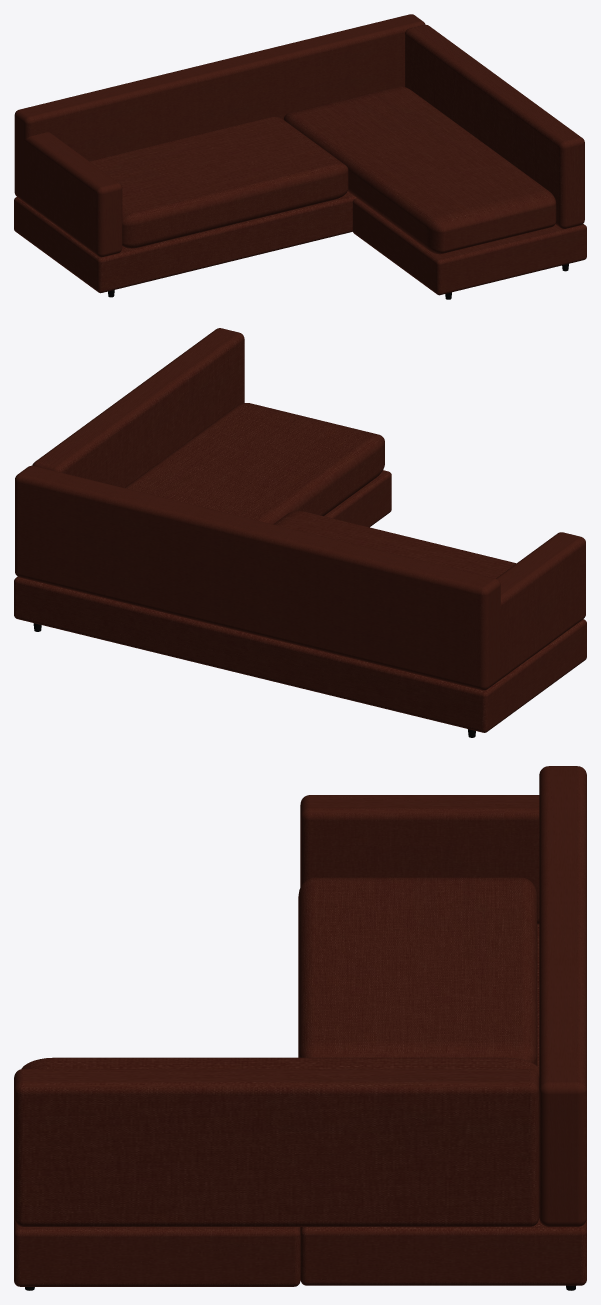
The model's file is state-default.glb.
3 views of the same model, one above another, from view 1: azimuth 30°, elevation 25°; view 2: azimuth 150°, elevation 25°; view 3: azimuth 270°, elevation 25° (orthographic). The views are drawn at different scales.
Parts seen in each view (by area): view 1: assetPrim:59a525468c75d8-19c73105016:sofa-back-main, assetPrim:59a525468c75d8-19c73105016:sofa-cushion-4, assetPrim:59a525468c75d8-19c73105016:ead12c019651a8-19c72aab, assetPrim:59a525468c75d8-19c73105016:sofa-back-return, assetPrim:59a525468c75d8-19c73105016:sofa-base-main, assetPrim:59a525468c75d8-19c73105016:sofa-base-return, assetPrim:59a525468c75d8-19c73105016:sofa-arm-left; view 2: assetPrim:59a525468c75d8-19c73105016:sofa-back-main, assetPrim:59a525468c75d8-19c73105016:sofa-base-main, assetPrim:59a525468c75d8-19c73105016:sofa-cushion-4, assetPrim:59a525468c75d8-19c73105016:sofa-back-return, assetPrim:59a525468c75d8-19c73105016:sofa-arm-left, assetPrim:59a525468c75d8-19c73105016:ead12c019651a8-19c72aab, assetPrim:59a525468c75d8-19c73105016:sofa-base-return; view 3: assetPrim:59a525468c75d8-19c73105016:sofa-back-return, assetPrim:59a525468c75d8-19c73105016:ead12c019651a8-19c72aab, assetPrim:59a525468c75d8-19c73105016:sofa-back-main, assetPrim:59a525468c75d8-19c73105016:sofa-arm-left, assetPrim:59a525468c75d8-19c73105016:sofa-base-main, assetPrim:59a525468c75d8-19c73105016:sofa-base-return, assetPrim:59a525468c75d8-19c73105016:sofa-cushion-4.
Boxes of the visible parts, <box> form: assetPrim:59a525468c75d8-19c73105016:sofa-back-main: <box>14,14,425,200</box>; assetPrim:59a525468c75d8-19c73105016:sofa-cushion-4: <box>283,86,556,254</box>; assetPrim:59a525468c75d8-19c73105016:ead12c019651a8-19c72aab: <box>89,117,348,248</box>; assetPrim:59a525468c75d8-19c73105016:sofa-back-return: <box>405,24,584,228</box>; assetPrim:59a525468c75d8-19c73105016:sofa-base-main: <box>14,191,357,293</box>; assetPrim:59a525468c75d8-19c73105016:sofa-base-return: <box>352,198,586,295</box>; assetPrim:59a525468c75d8-19c73105016:sofa-arm-left: <box>16,132,122,257</box>; assetPrim:59a525468c75d8-19c73105016:sofa-back-main: <box>15,465,500,690</box>; assetPrim:59a525468c75d8-19c73105016:sofa-base-main: <box>14,576,586,732</box>; assetPrim:59a525468c75d8-19c73105016:sofa-cushion-4: <box>125,403,384,524</box>; assetPrim:59a525468c75d8-19c73105016:sofa-back-return: <box>32,328,244,487</box>; assetPrim:59a525468c75d8-19c73105016:sofa-arm-left: <box>462,532,585,690</box>; assetPrim:59a525468c75d8-19c73105016:ead12c019651a8-19c72aab: <box>273,511,516,578</box>; assetPrim:59a525468c75d8-19c73105016:sofa-base-return: <box>324,470,391,527</box>; assetPrim:59a525468c75d8-19c73105016:sofa-back-return: <box>14,1069,539,1226</box>; assetPrim:59a525468c75d8-19c73105016:ead12c019651a8-19c72aab: <box>298,877,537,1065</box>; assetPrim:59a525468c75d8-19c73105016:sofa-back-main: <box>539,766,586,1226</box>; assetPrim:59a525468c75d8-19c73105016:sofa-arm-left: <box>300,795,539,924</box>; assetPrim:59a525468c75d8-19c73105016:sofa-base-main: <box>300,924,586,1285</box>; assetPrim:59a525468c75d8-19c73105016:sofa-base-return: <box>14,1219,300,1286</box>; assetPrim:59a525468c75d8-19c73105016:sofa-cushion-4: <box>21,1057,539,1077</box>.
Size of the model in its own units: 2.41 by 0.75 by 1.8.
13 materials, 7 textured.
